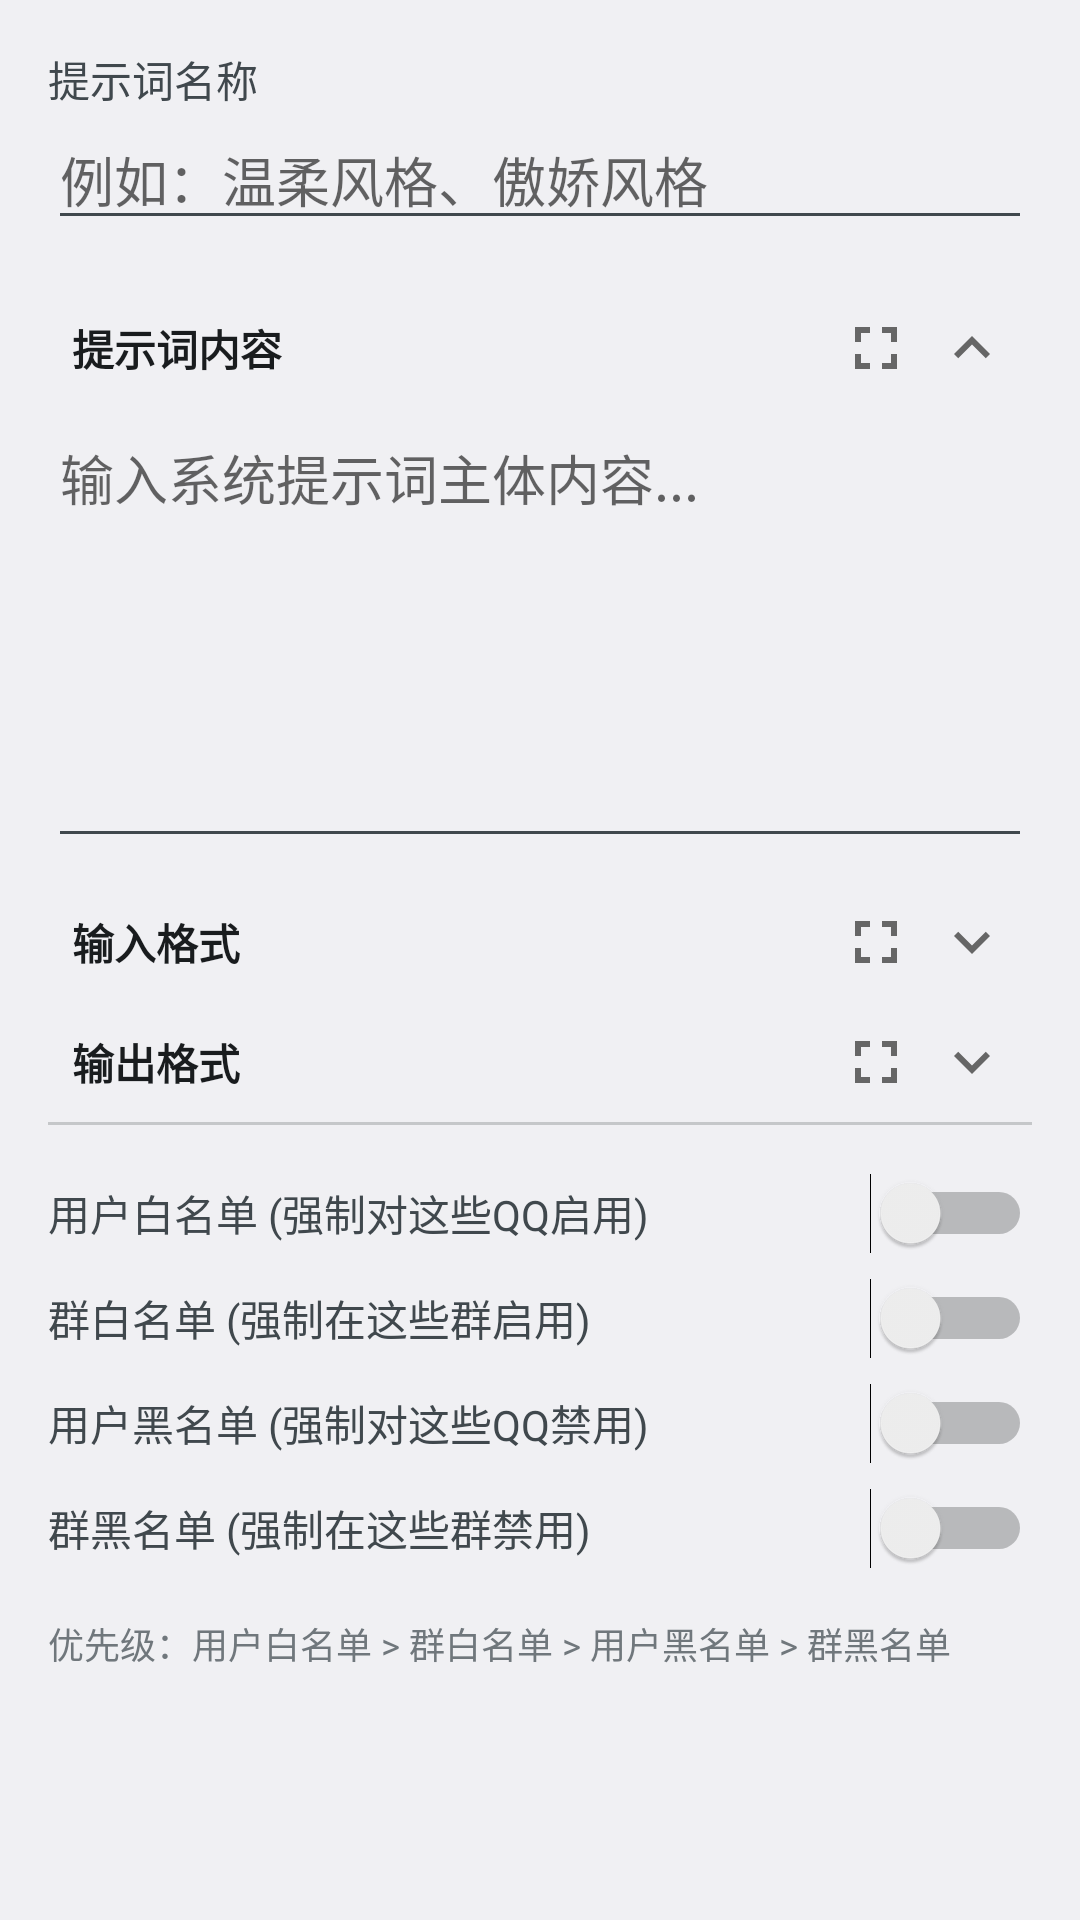

Icon bounding boxes for this 1080*1920 phone screenshot, format (x1, y1, x2, y2):
expand less: (954, 336, 990, 358)
expand more: (954, 932, 990, 954), (954, 1052, 990, 1074)
放大编辑: (855, 327, 897, 369), (855, 921, 897, 963), (855, 1041, 897, 1083)
